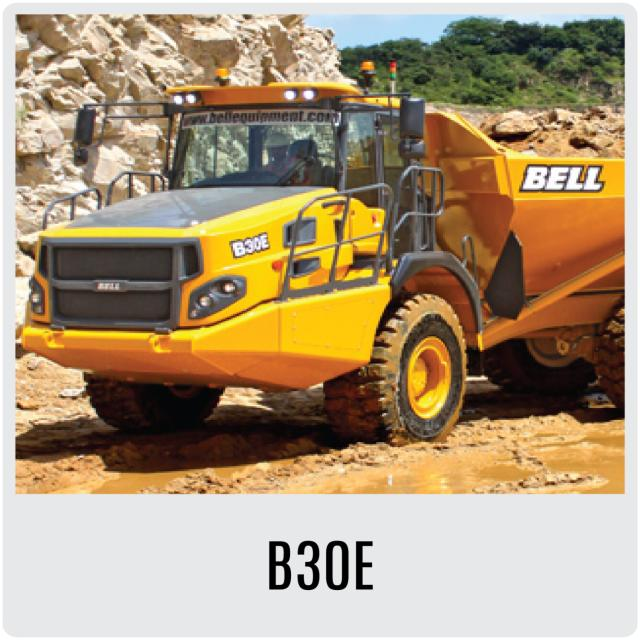dump_truck: (32, 70, 623, 445)
